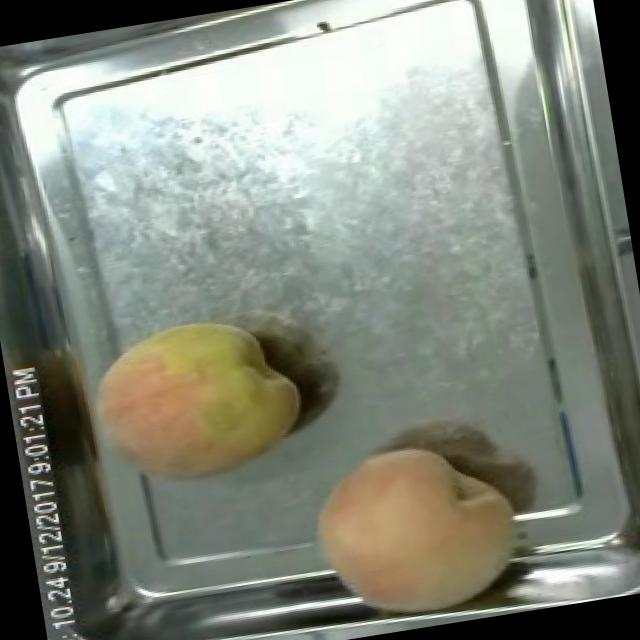Fruit: (292, 420, 538, 632), (73, 296, 319, 504)
